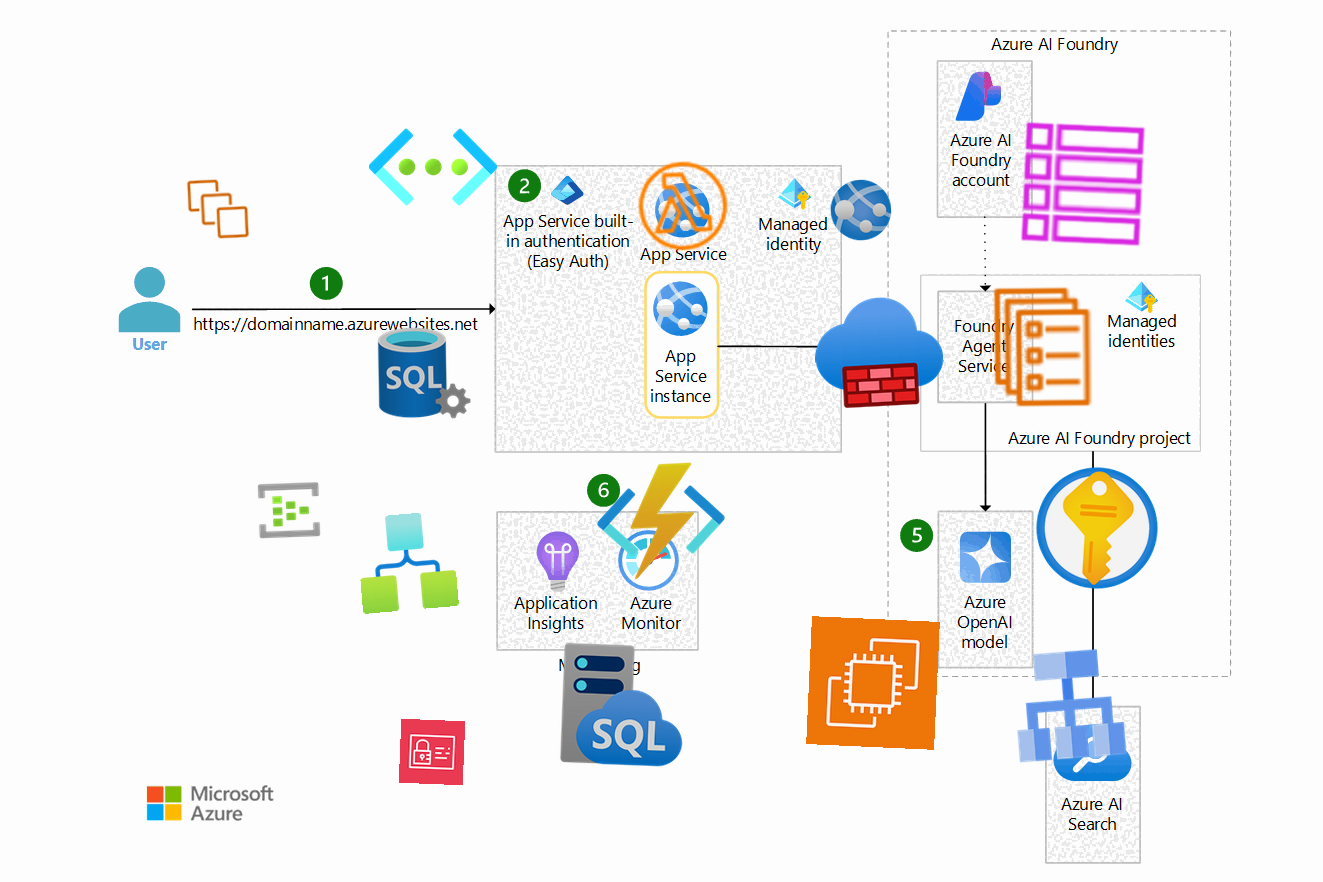aws_amazon_ec2: (806, 616, 940, 750)
aws_dynamodb_table: (1016, 117, 1150, 251)
aws_ec2_instances: (184, 175, 252, 243)
aws_elastic_container_service_service: (978, 282, 1108, 412)
aws_identity_and_access_management: (398, 718, 466, 786)
aws_lambda_lambda_function: (632, 155, 734, 257)
azure_app_services: (827, 176, 895, 244)
azure_event_hubs: (255, 476, 323, 544)
azure_firewalls: (811, 284, 947, 420)
azure_function_apps: (593, 453, 729, 589)
azure_key_vaults: (1029, 460, 1165, 596)
azure_logic_apps: (355, 510, 459, 614)
azure_sql_managed_instance: (556, 638, 690, 772)
azure_sql_server: (375, 324, 473, 422)
azure_virtual_networks: (368, 102, 498, 232)
gcp_cloud_load_balancing: (1000, 636, 1138, 774)
